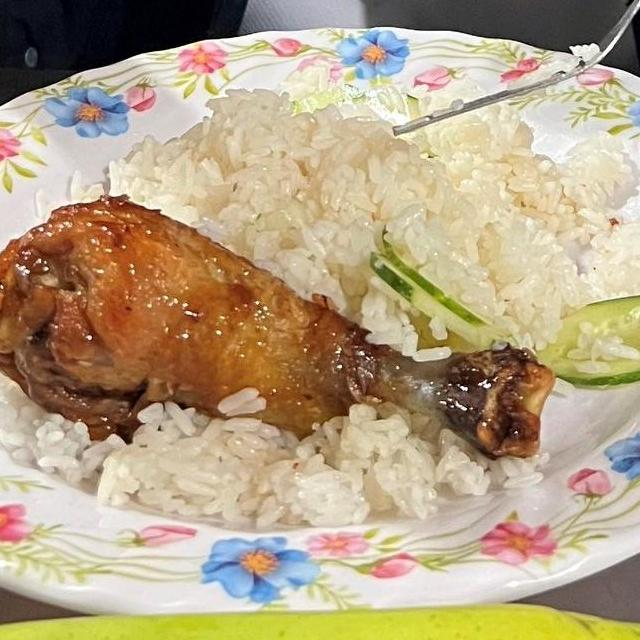com: (50, 78, 640, 367), (0, 363, 559, 540)
thit ga: (0, 187, 556, 467)
